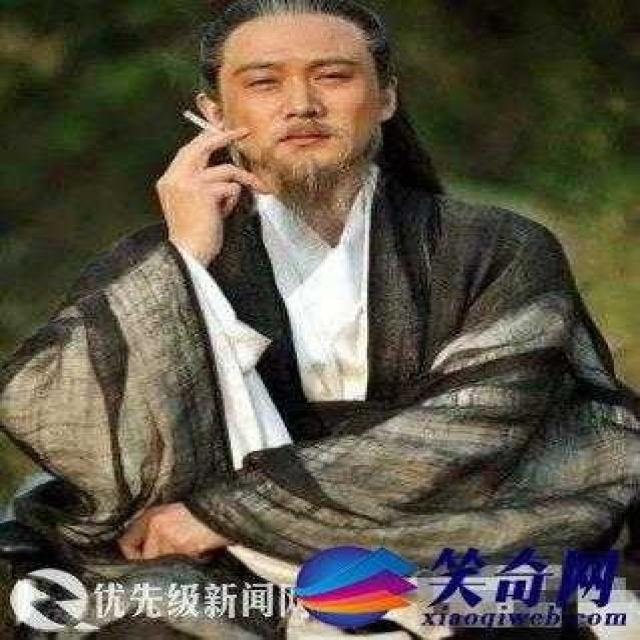Smooking: (174, 102, 228, 141)
